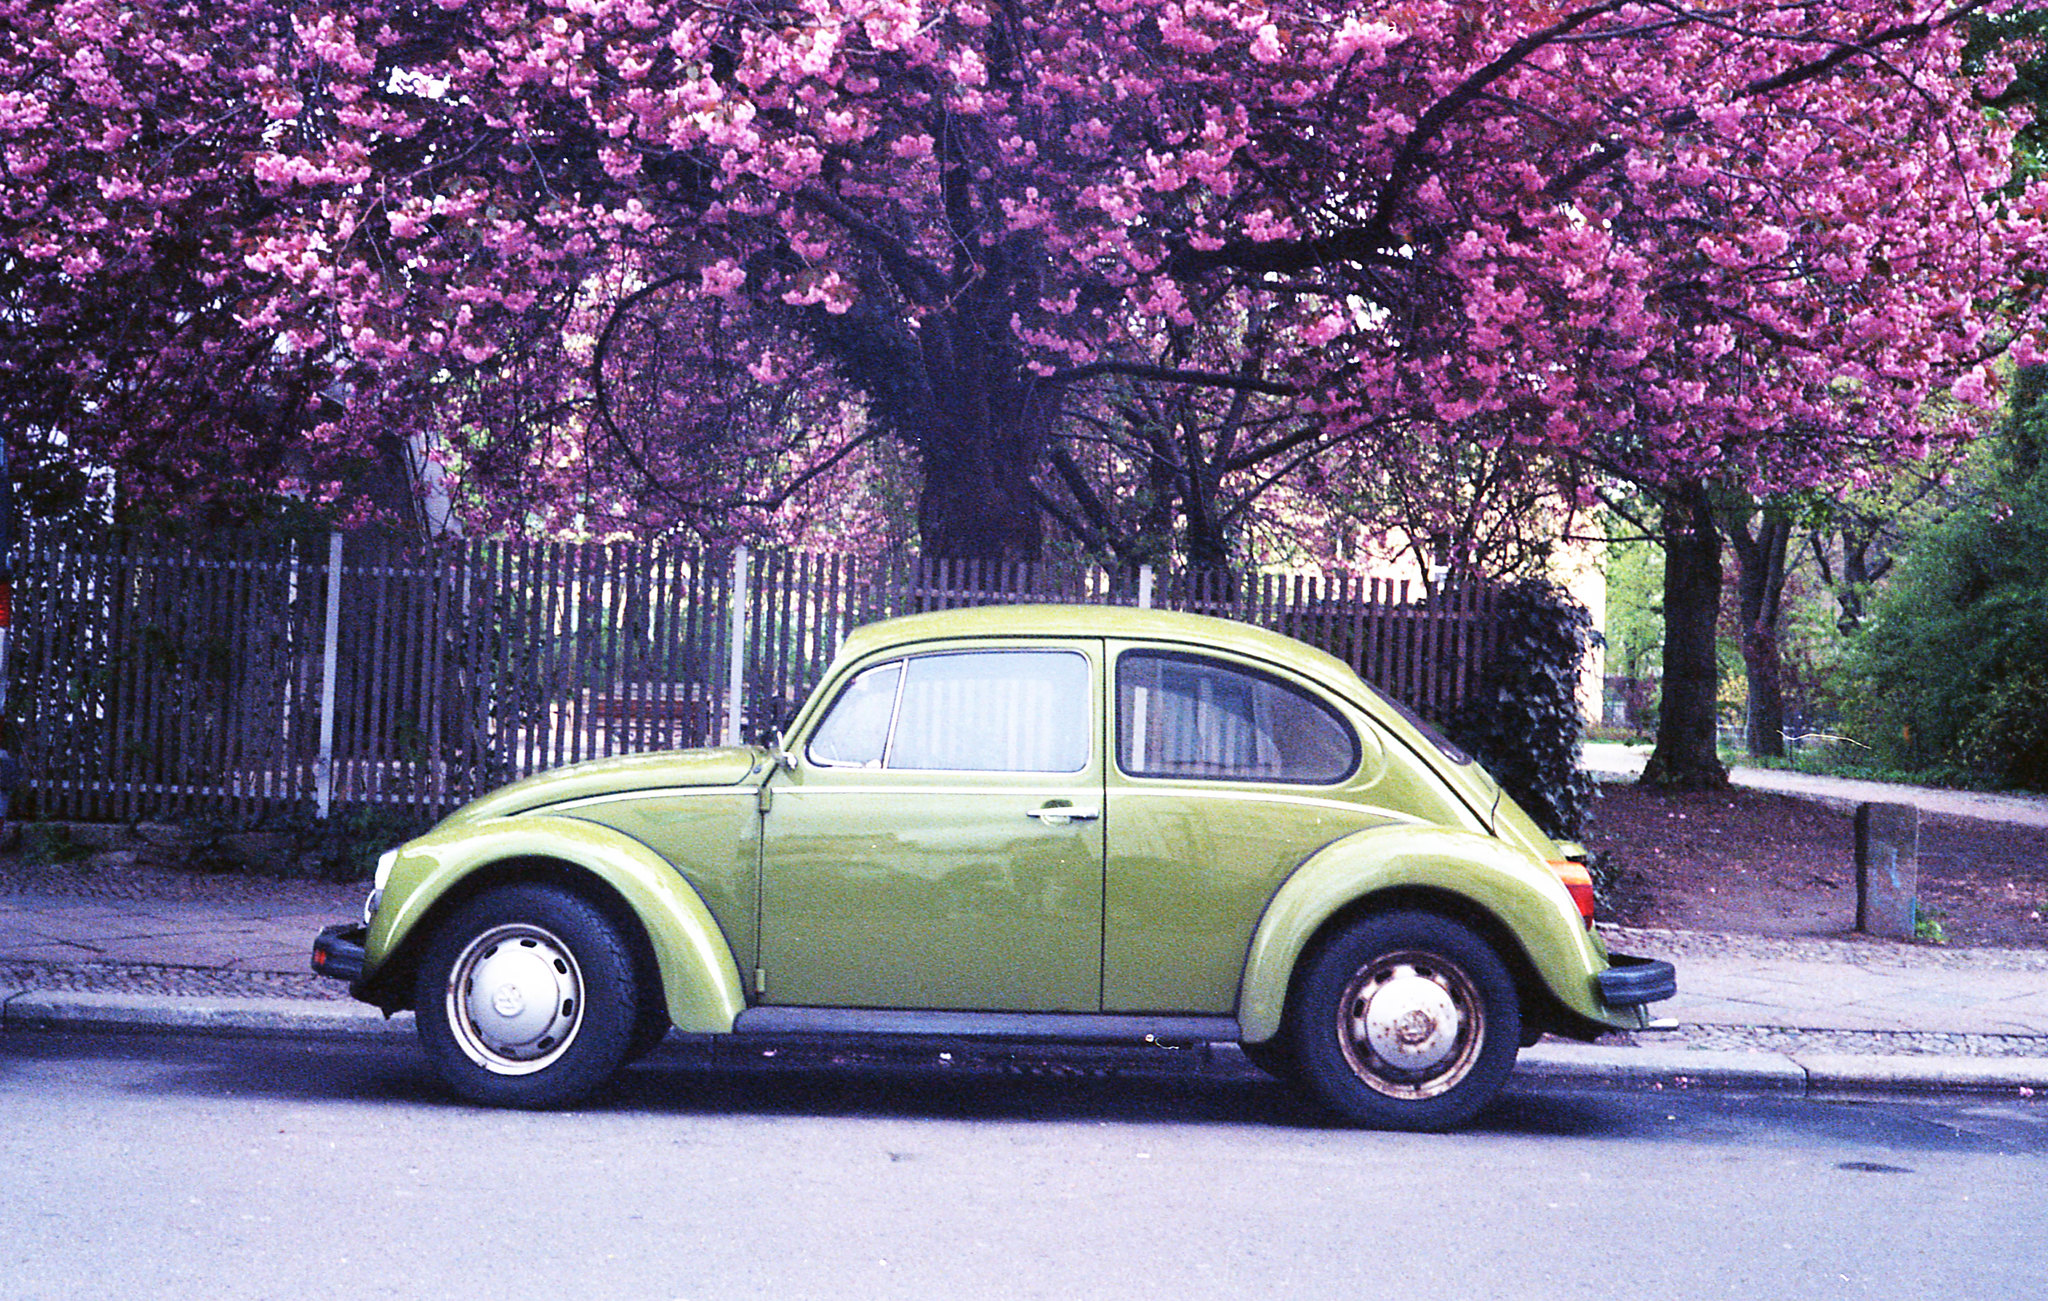car: (299, 591, 1703, 1137)
